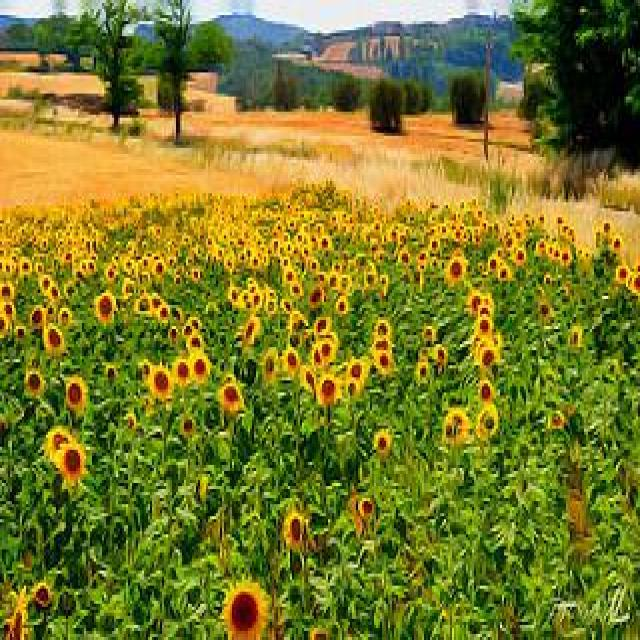sunflower: (223, 573, 267, 640), (43, 424, 75, 467), (281, 504, 307, 550), (60, 441, 86, 486), (93, 287, 115, 326), (149, 362, 171, 398), (445, 409, 469, 442), (315, 376, 339, 406), (217, 379, 241, 409), (65, 376, 85, 412), (476, 408, 500, 438), (24, 368, 44, 402), (261, 341, 281, 374), (477, 344, 499, 374), (374, 349, 396, 379), (191, 354, 213, 384), (46, 318, 64, 354), (281, 346, 301, 376), (373, 424, 393, 454), (28, 302, 46, 335), (244, 280, 262, 310), (317, 338, 335, 365), (32, 581, 52, 605), (186, 328, 204, 352), (174, 359, 190, 386), (613, 261, 631, 285), (477, 378, 493, 404), (134, 294, 152, 316), (308, 287, 326, 308), (444, 260, 462, 280), (431, 347, 449, 365), (19, 256, 33, 274), (0, 284, 14, 302)
